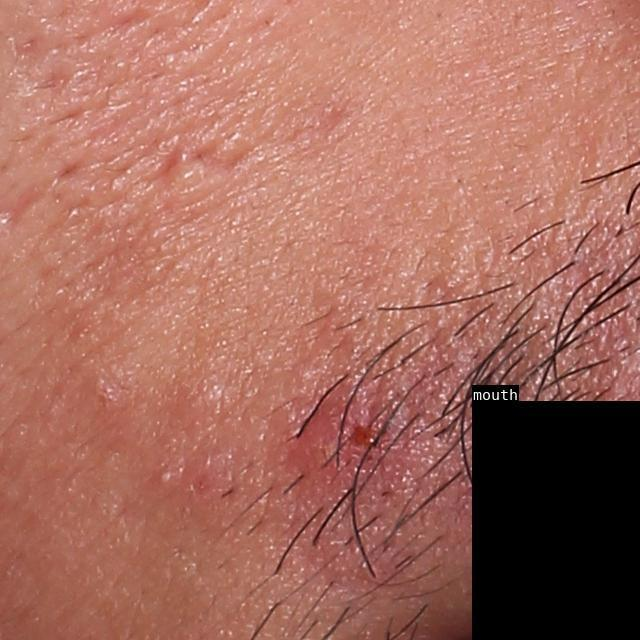atrophic_scar: (150, 136, 258, 202), (82, 10, 159, 37)
pustule: (151, 462, 182, 490)
